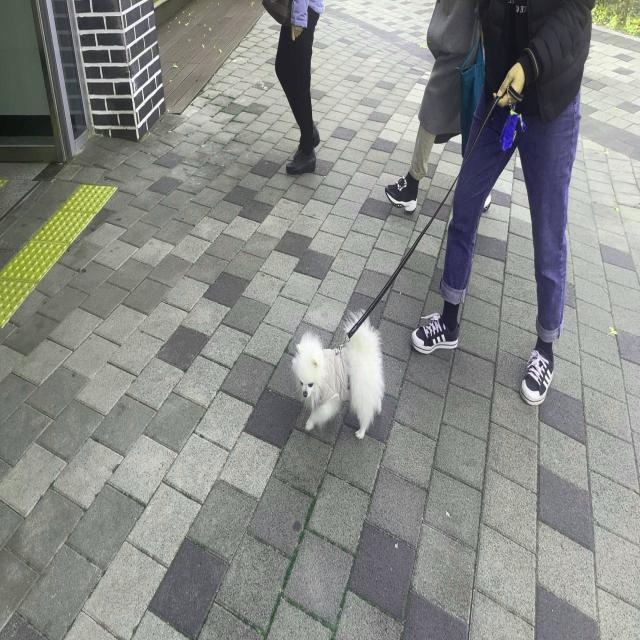Leashed_Dog: (291, 62, 508, 440)
